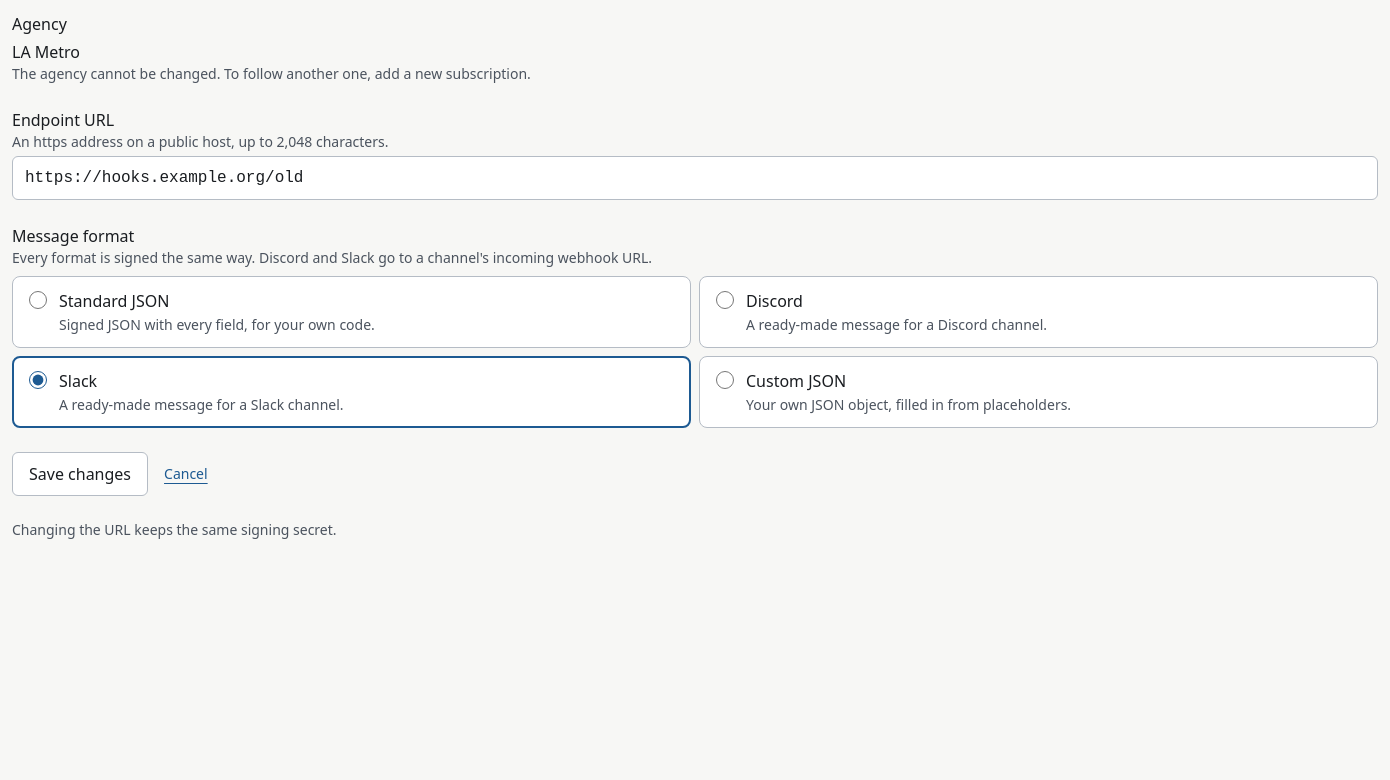
Test case: SubscriptionForm › editing › says when the subscription no longer exists
Click the button "Save changes": (80, 474) [12,452,148,496]
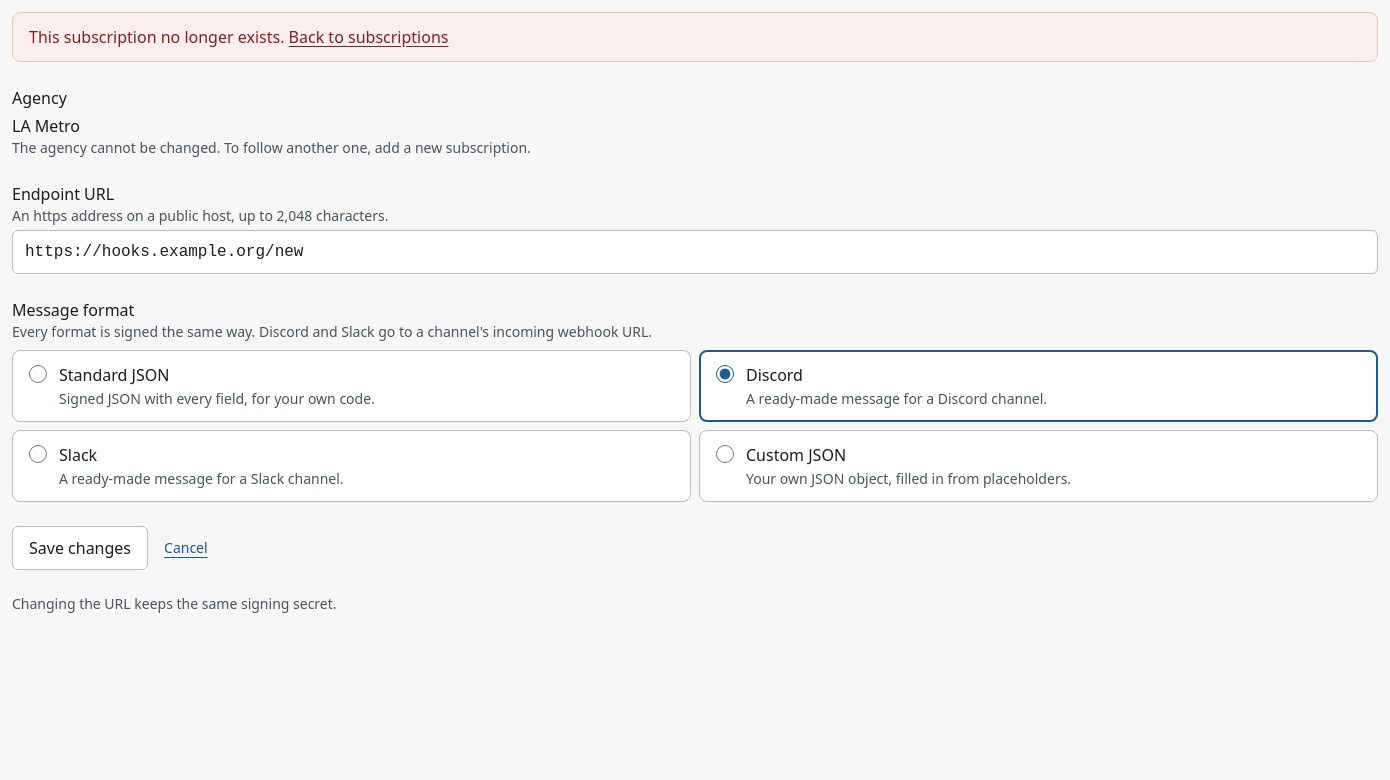
Check: the message shows "This subscription no longer exists.", box [29,26,284,48]
Check: the link "Back to subscriptions" is shown, box [289,26,448,48]
